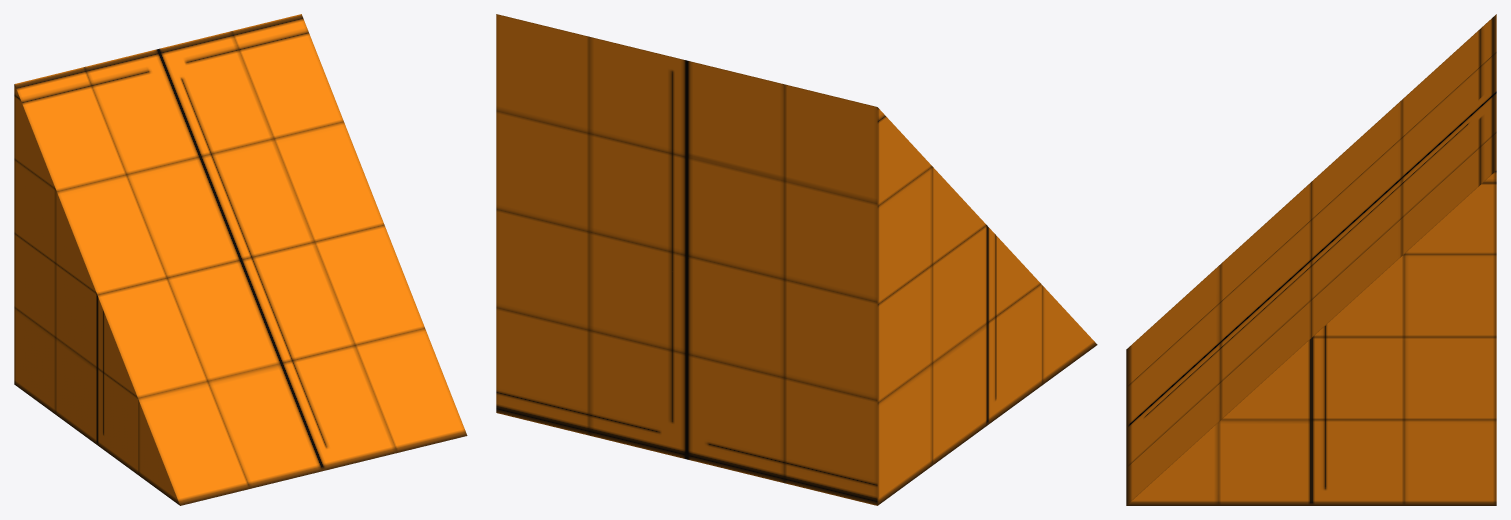
File: ramp2x2.fbx
3 views of the same model, side by side, from view 1: azimuth 30°, elevation 25°; view 2: azimuth 150°, elevation 25°; view 3: azimuth 270°, elevation 25° (orthographic). The views are drawn at different scales.
Parts seen in each view (by area): view 1: ramp2x2; view 2: ramp2x2; view 3: ramp2x2.
Boxes of the visible parts, box(x1,y1,x2,y2) form: ramp2x2: box(14, 14, 467, 505); ramp2x2: box(496, 14, 1097, 505); ramp2x2: box(1126, 14, 1496, 505).
Bounding box in the file's own units: 200 × 200 × 200.
1 material, 1 textured.
